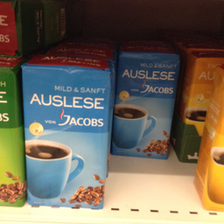coffee: (21, 53, 108, 210), (110, 47, 181, 161), (1, 1, 71, 51)
